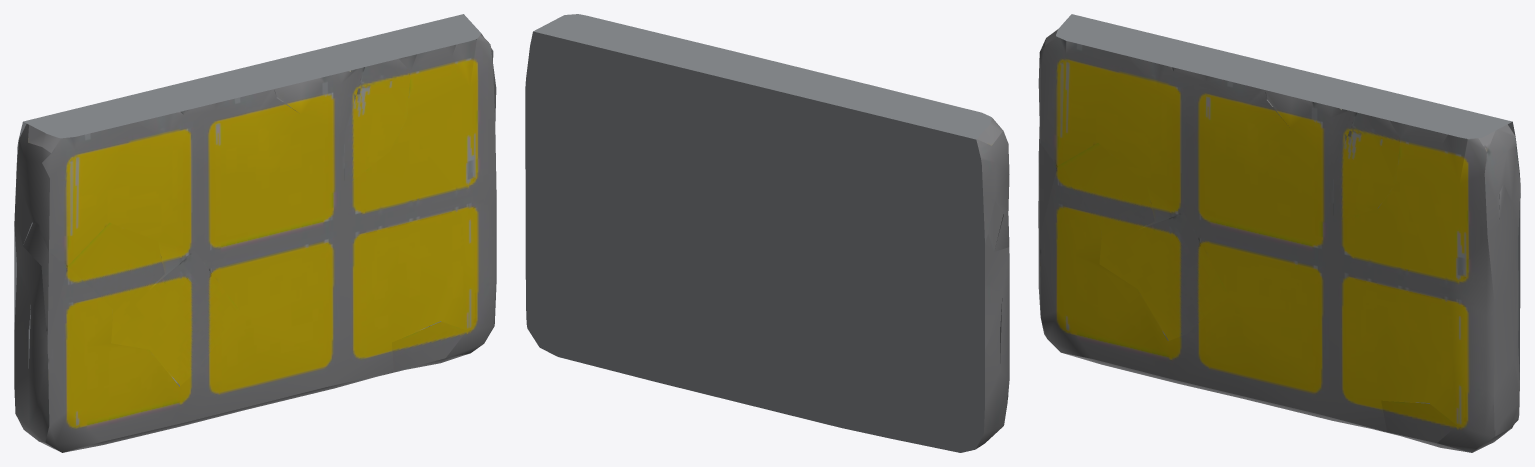
Rendered from solar_panel_mk1.glb.
The picture shows the model from 3 angles, left to right: view 1: azimuth 30°, elevation 25°; view 2: azimuth 150°, elevation 25°; view 3: azimuth 330°, elevation 25°; orthographic projection.
Visible parts, largest first — view 1: part; view 2: part; view 3: part.
Boxes of the visible parts, x1,y1,x2,y2 form: part: [14, 14, 496, 452]; part: [525, 14, 1009, 452]; part: [1038, 14, 1520, 452].
Size of the model in its own units: 3 by 2 by 0.3417.
Materials: 2 (1 with a texture image).
